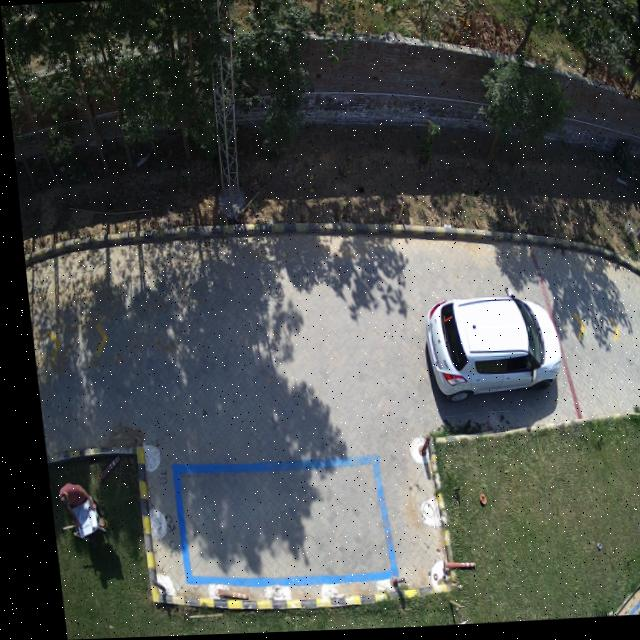car: (418, 292, 554, 404)
